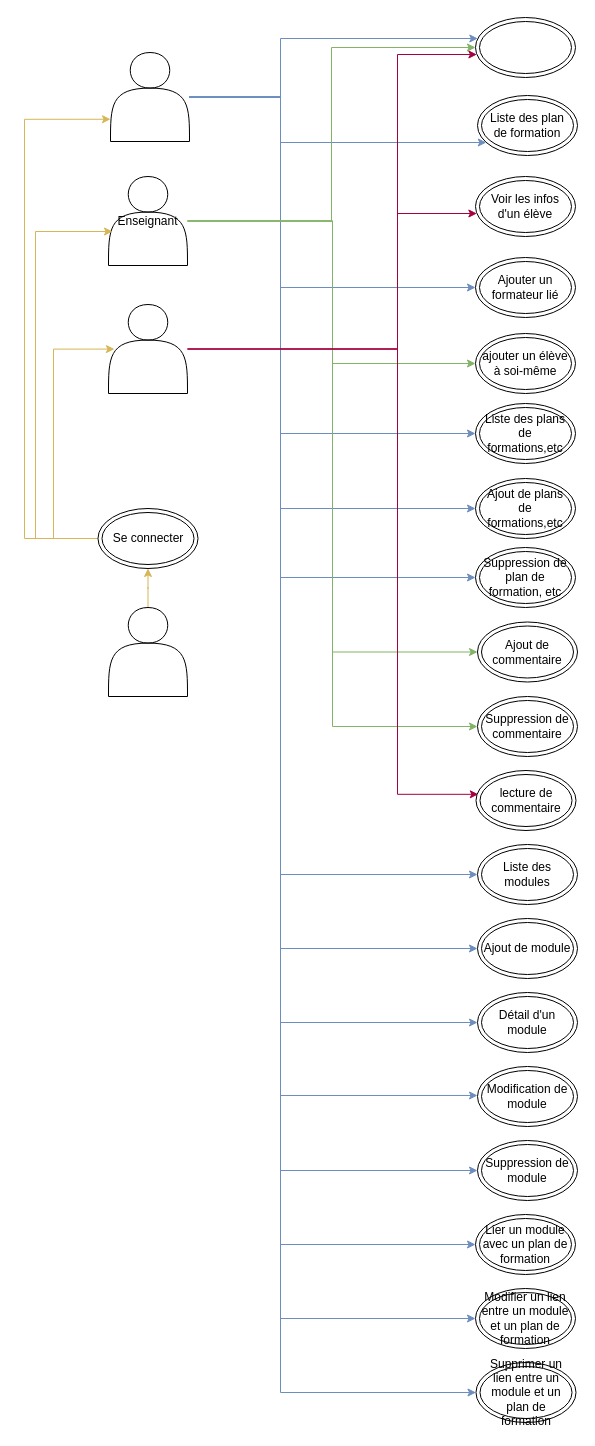
Image size: 595x1446. Some labels were removed from this diagram. The shapes that lost their labels are listed below. From the top down, each one's centre as x and y in pixels, then its label:
the point at 525,47: Liste des Apprentis et Enseignants
the point at 150,97: Admin
the point at 148,349: Eleve
the point at 148,651: Non connecté
